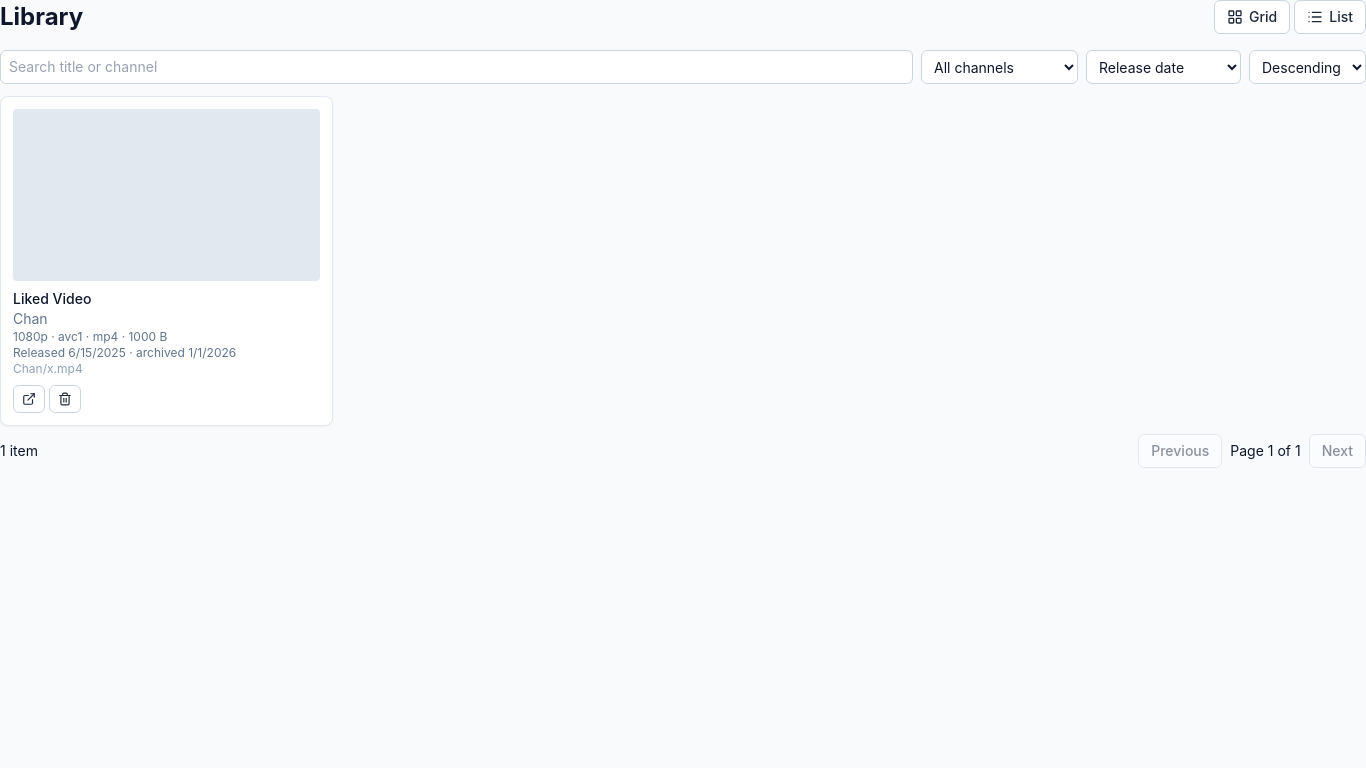
Test: LibraryPage delete › deletes a liked video and removes the like when permitted
The image size is (1366, 768).
Click the button named "Delete Liked Video" at x=65, y=399, box [49,385,81,413]
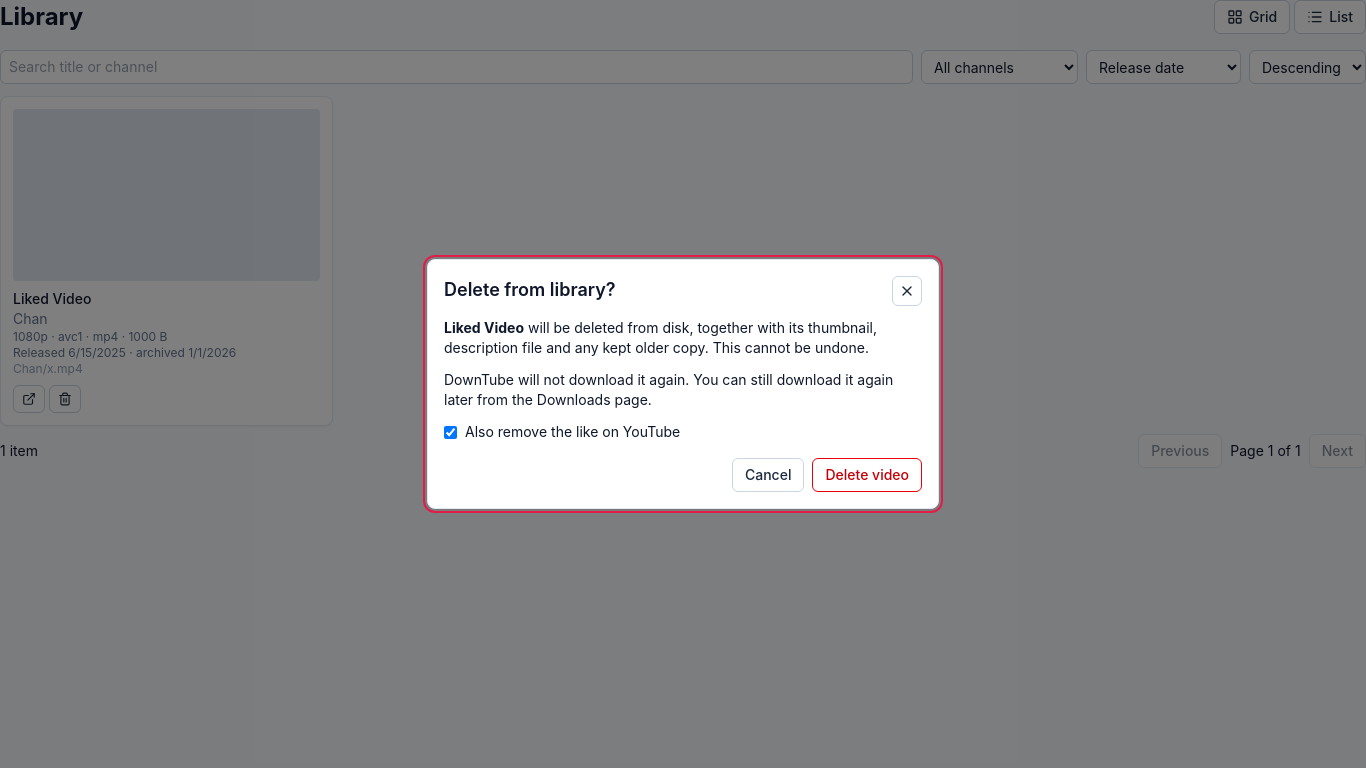
Result: the checkbox labelled "Also remove the like on YouTube" is checked at [444,426,457,439]
Click the button "Delete video" at x=867, y=475, box [812,458,922,492]
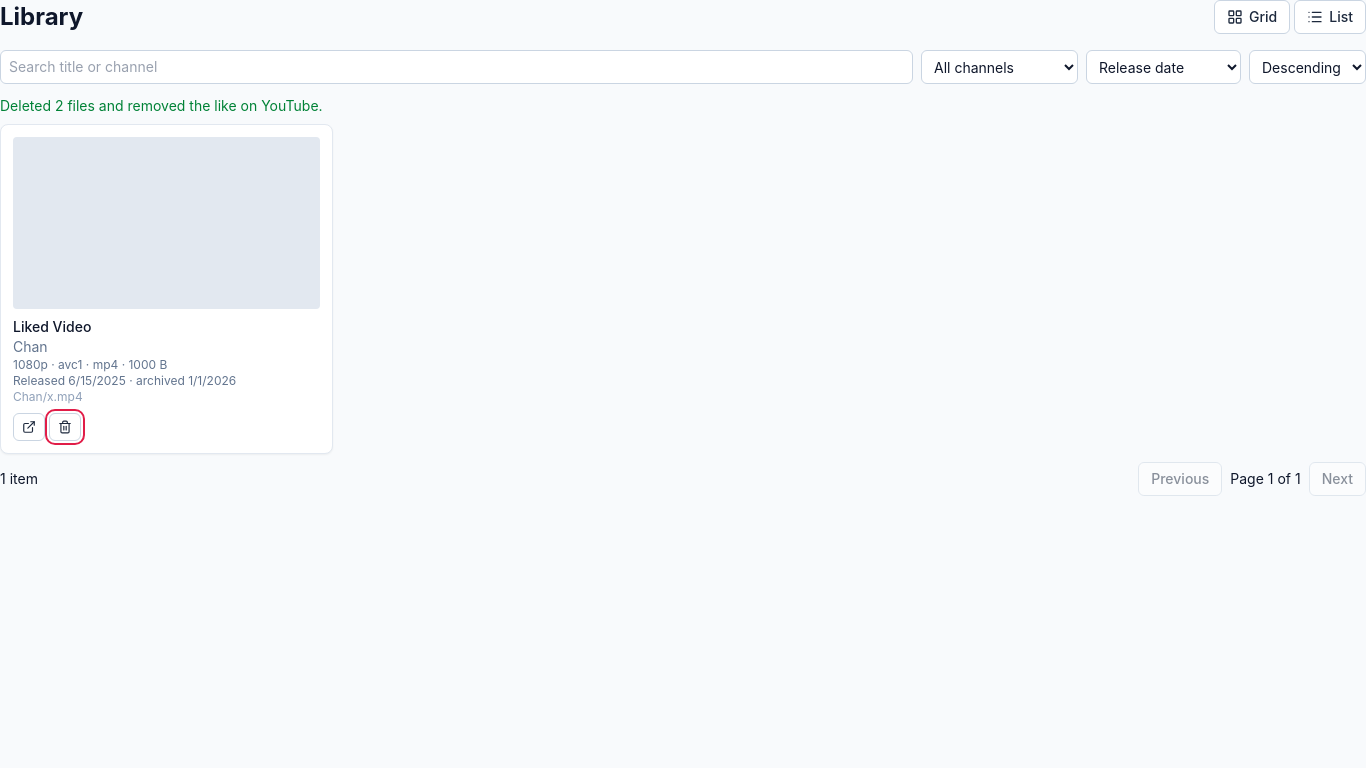
Result: the message shows "Deleted 2 files and removed the like on YouTube" at [0,97,323,114]
